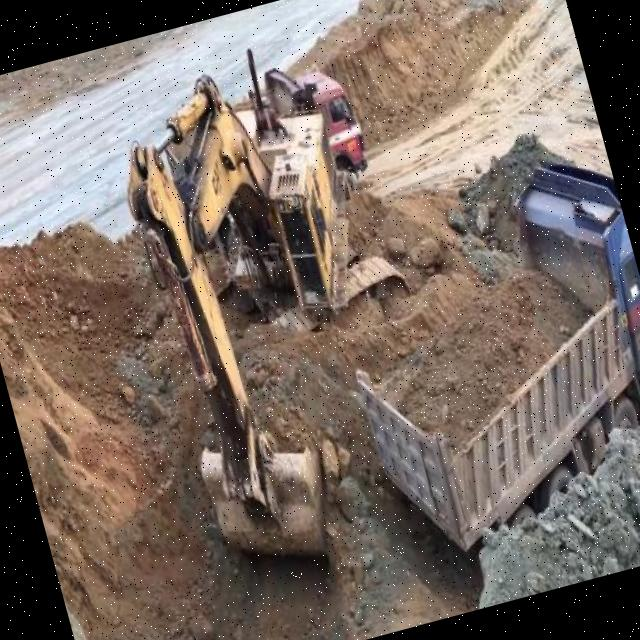Dump Truck: (317, 142, 640, 567)
Excavator: (87, 28, 439, 586)
